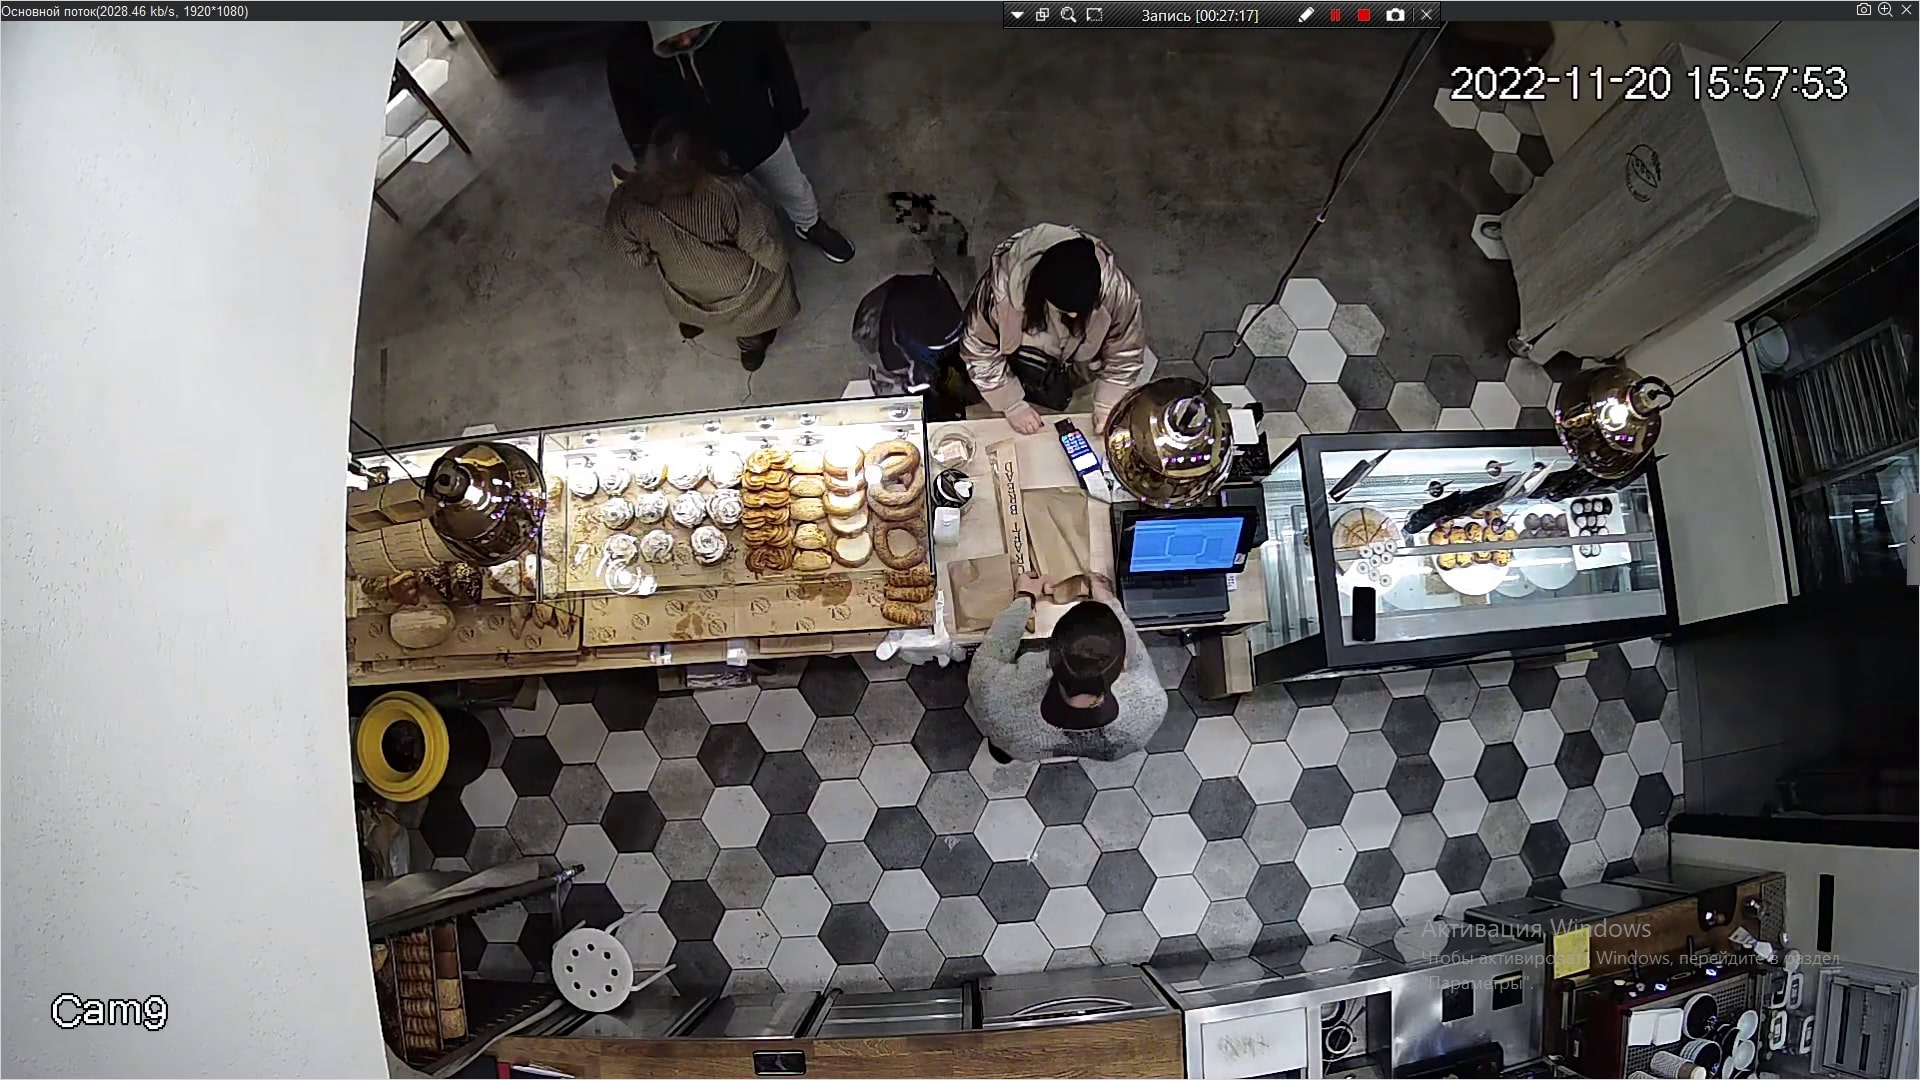barcounter: (359, 425, 1680, 682)
pack: (1019, 489, 1090, 599), (943, 557, 1018, 636)
person: (600, 143, 796, 371), (847, 249, 969, 389)
terminal: (1059, 418, 1096, 482)
